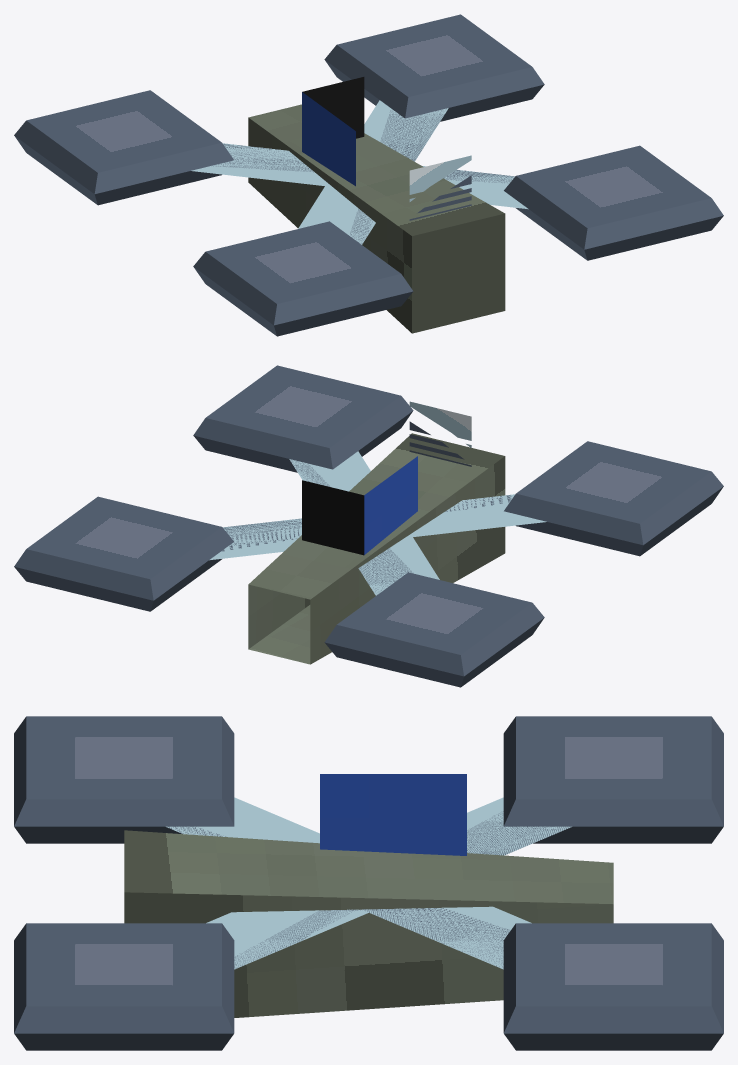
Rendered from drone.gltf.
3 views of the same model, one above another, from view 1: azimuth 30°, elevation 25°; view 2: azimuth 150°, elevation 25°; view 3: azimuth 270°, elevation 25° (orthographic). The views are drawn at different scales.
Parts seen in each view (by area): view 1: mesh (×8); view 2: mesh (×8); view 3: mesh (×8).
Part boxes in pixels (<box>): mesh (×8): <box>14,14,723,336</box>; mesh (×8): <box>14,365,723,687</box>; mesh (×8): <box>14,716,723,1050</box>.
Size of the model in its own units: 0.9062 by 0.2812 by 0.9062.
Materials: 3 (3 with a texture image).
